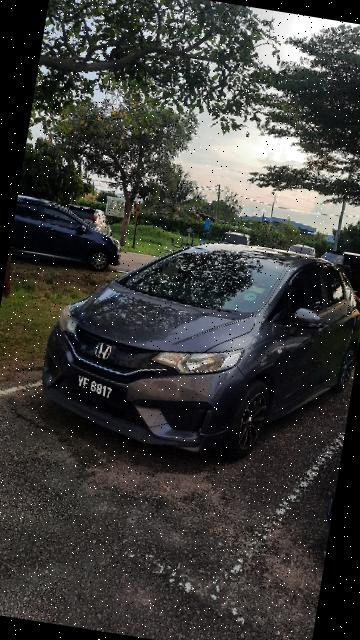License_Plate: (58, 363, 136, 412)
car: (31, 213, 360, 484)
